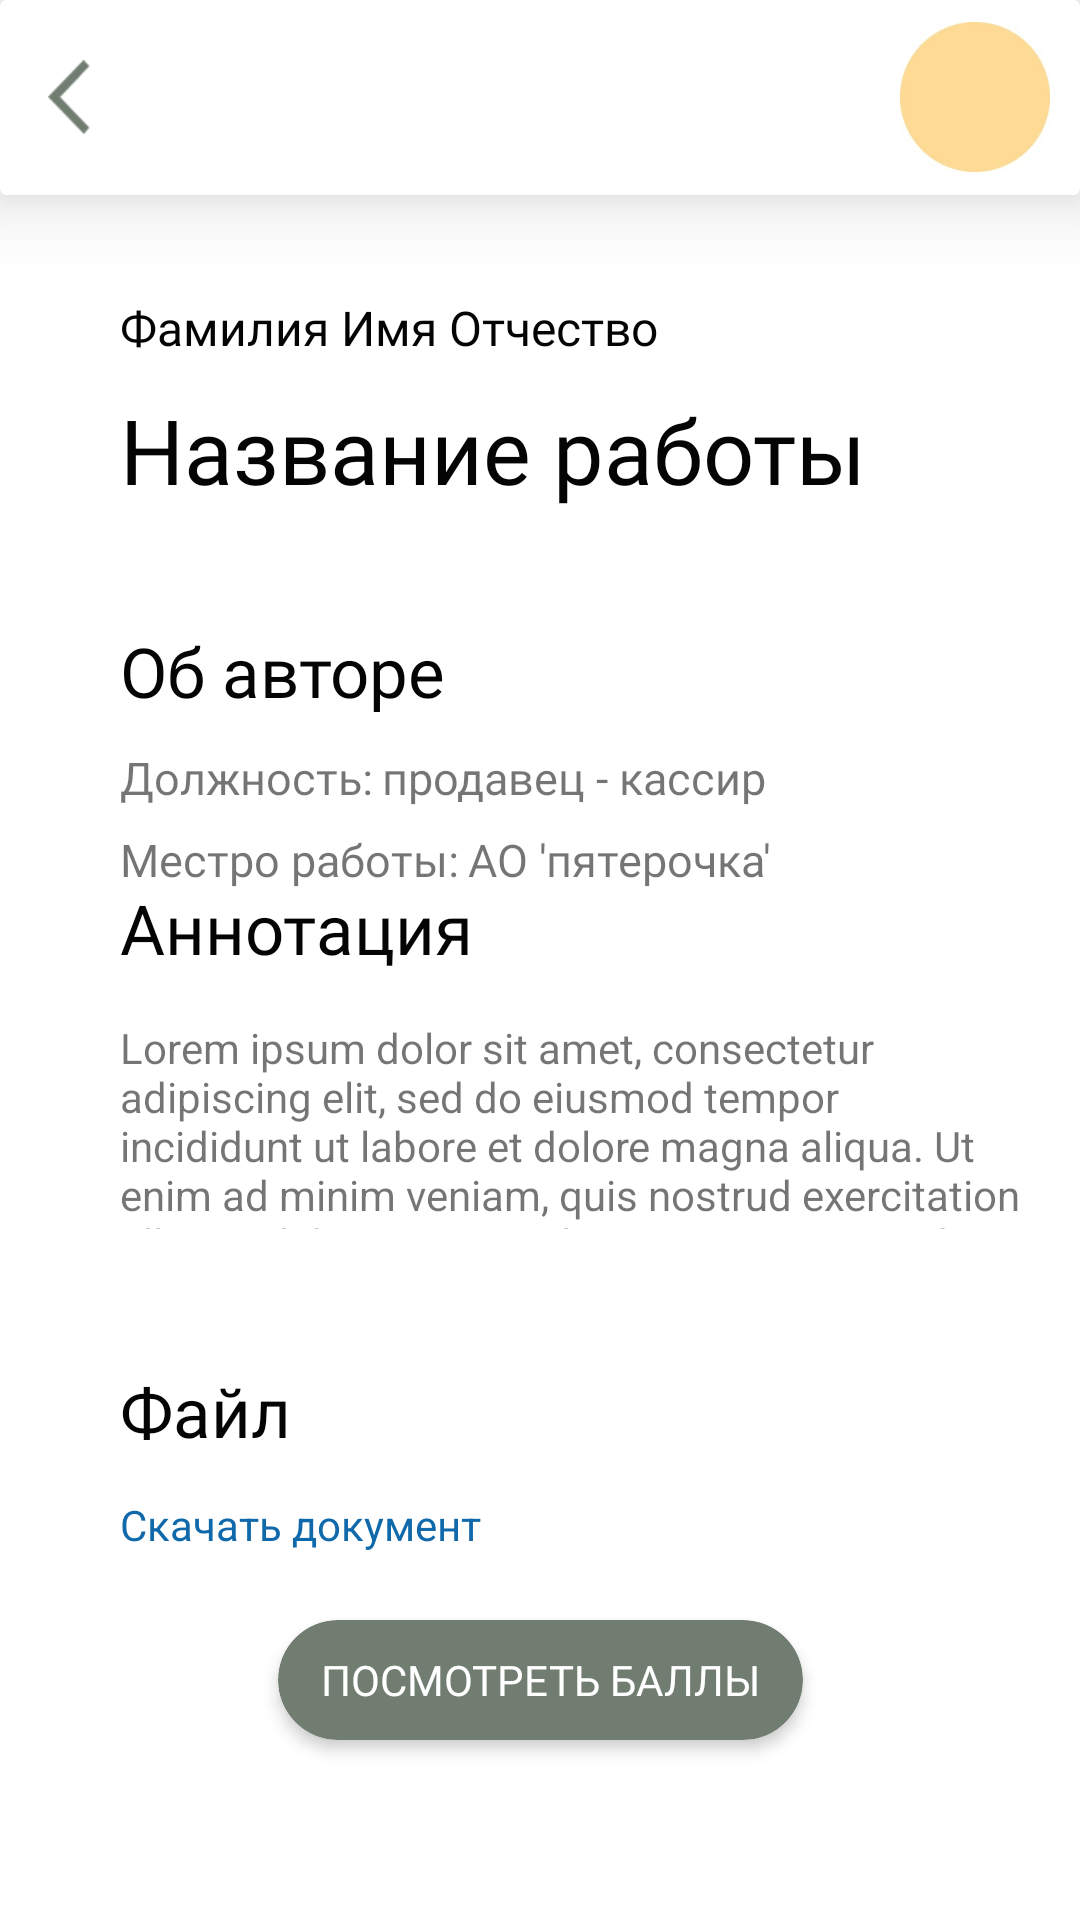

Icons on this 1080 × 1920 Android screen, each with the point to tap as (x,y):
exit: (69,97)
